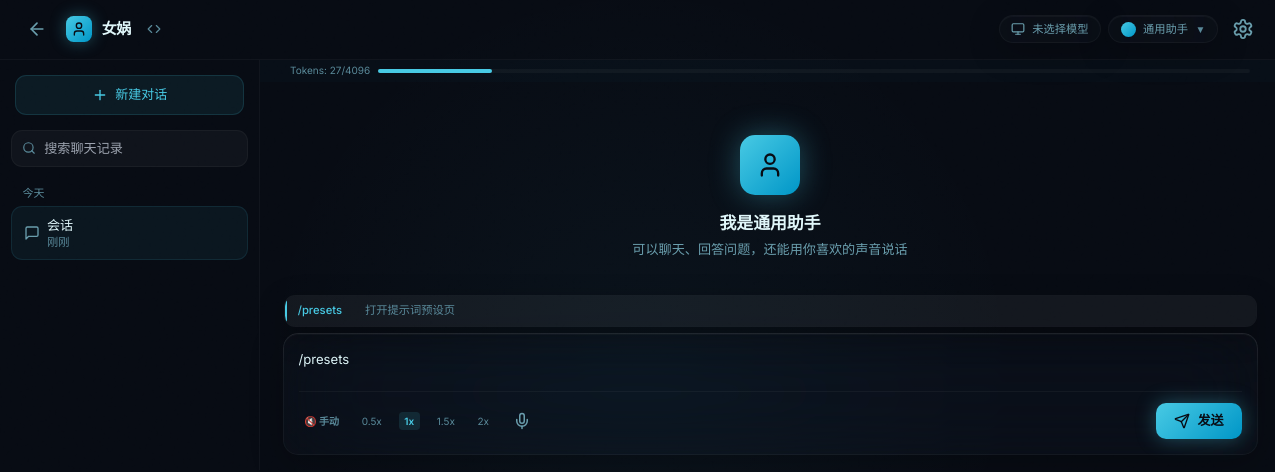
Scenario: 预设插入与长度上限 (Req 5.1, 5.3, 4.7) › 点击预设命令插入其 content（Req 5.1, 4.7）
The width and height of the screenshot is (1275, 472).
Replace the text in the text box with placeholder "输入消息..." with "/" at (770, 361), box [298, 349, 1242, 373]
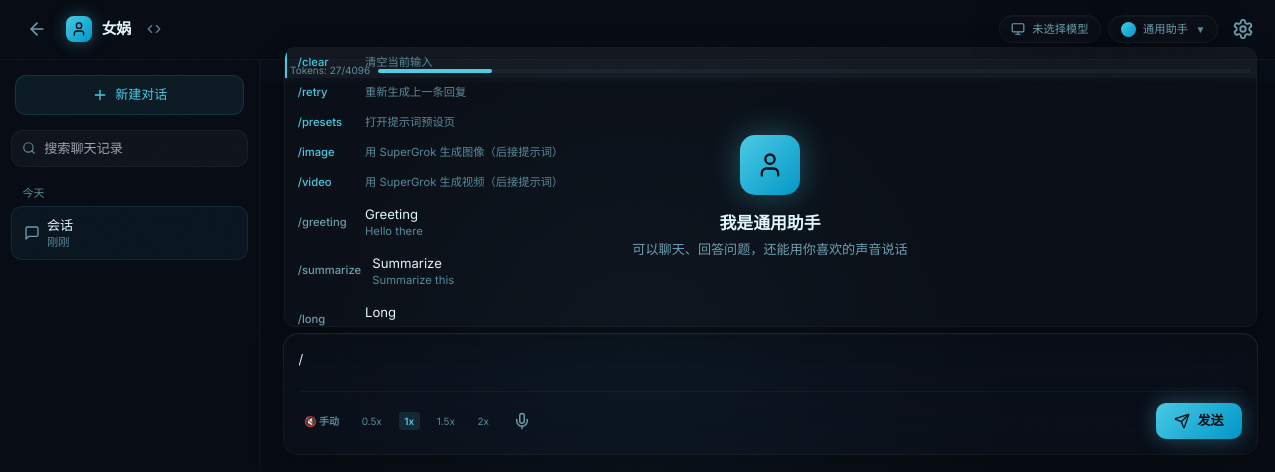
Press the mouse on the option with test id "slash-command-item-5" at (322, 222), box [284, 198, 1256, 247]
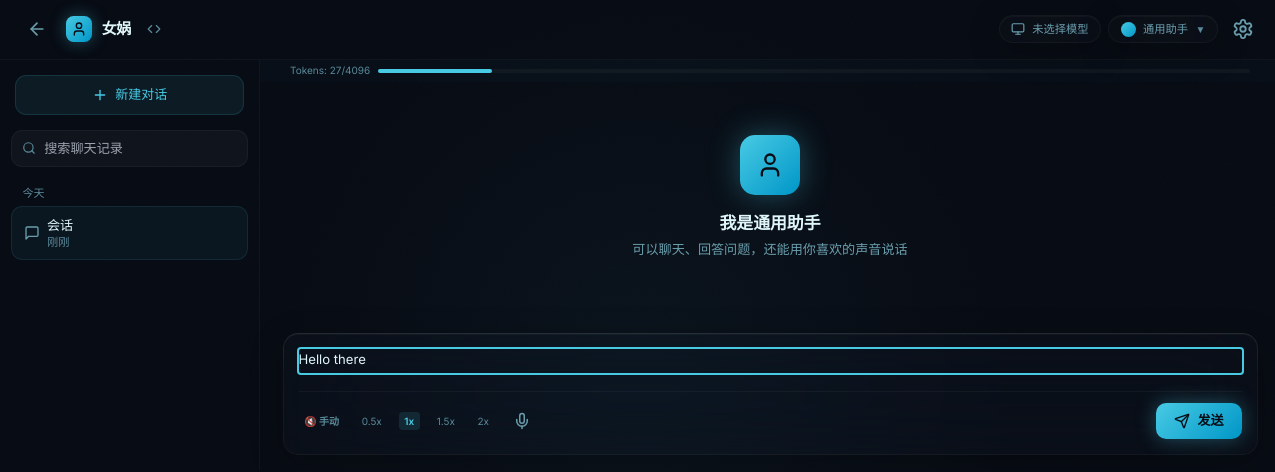
Check: the list with test id "slash-command-menu" is gone
